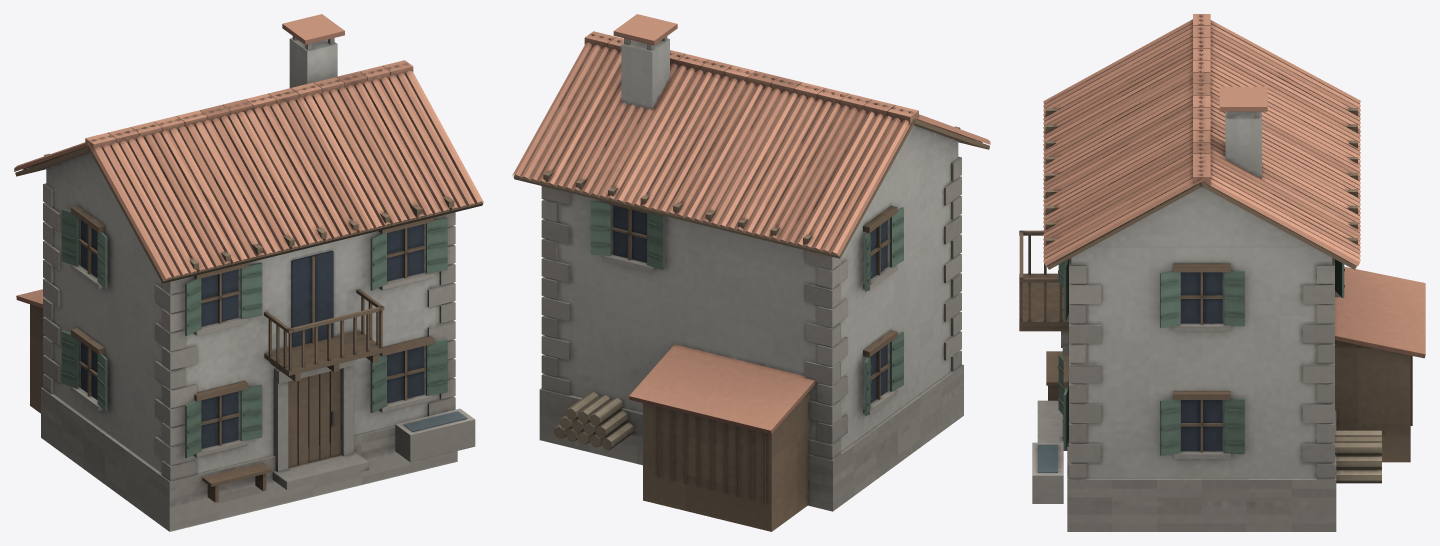
The model's file is plaster-65x54x50-r15-s2.glb.
3 renders of one model, left to right at view 1: azimuth 30°, elevation 25°; view 2: azimuth 150°, elevation 25°; view 3: azimuth 270°, elevation 25°, orthographic. The views are drawn at different scales.
Visible parts, largest first — view 1: Farmhouse; view 2: Farmhouse; view 3: Farmhouse.
Boxes of the visible parts, box(x1,y1,x2,y2) form: Farmhouse: box(14, 14, 483, 531); Farmhouse: box(512, 14, 990, 531); Farmhouse: box(1019, 14, 1425, 531).
Size of the model in its own units: 7.43 by 8.56 by 7.79.
1 material, 1 textured.
